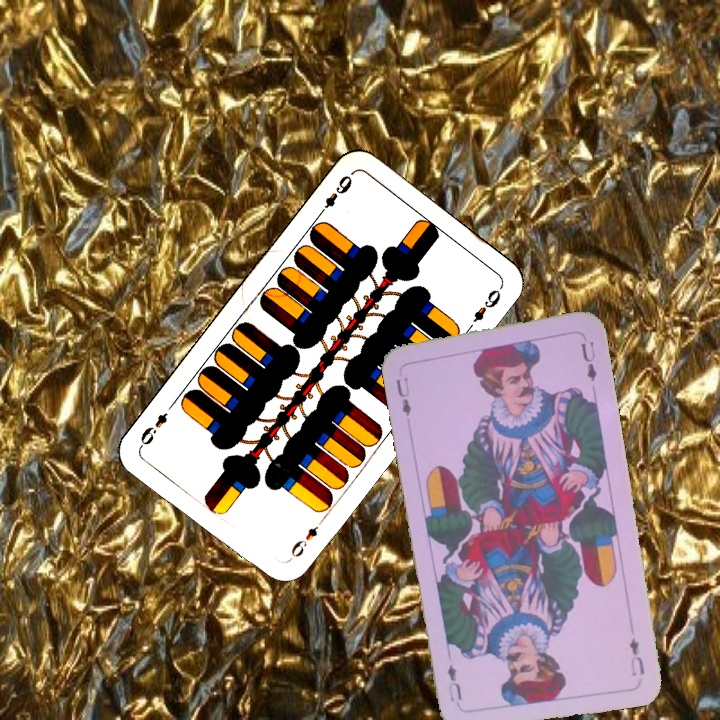E9: (314, 171, 355, 219), (285, 521, 321, 563)
EU: (392, 373, 414, 420), (625, 634, 647, 679)
